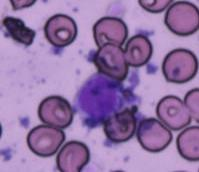L: (72, 72, 124, 128)
